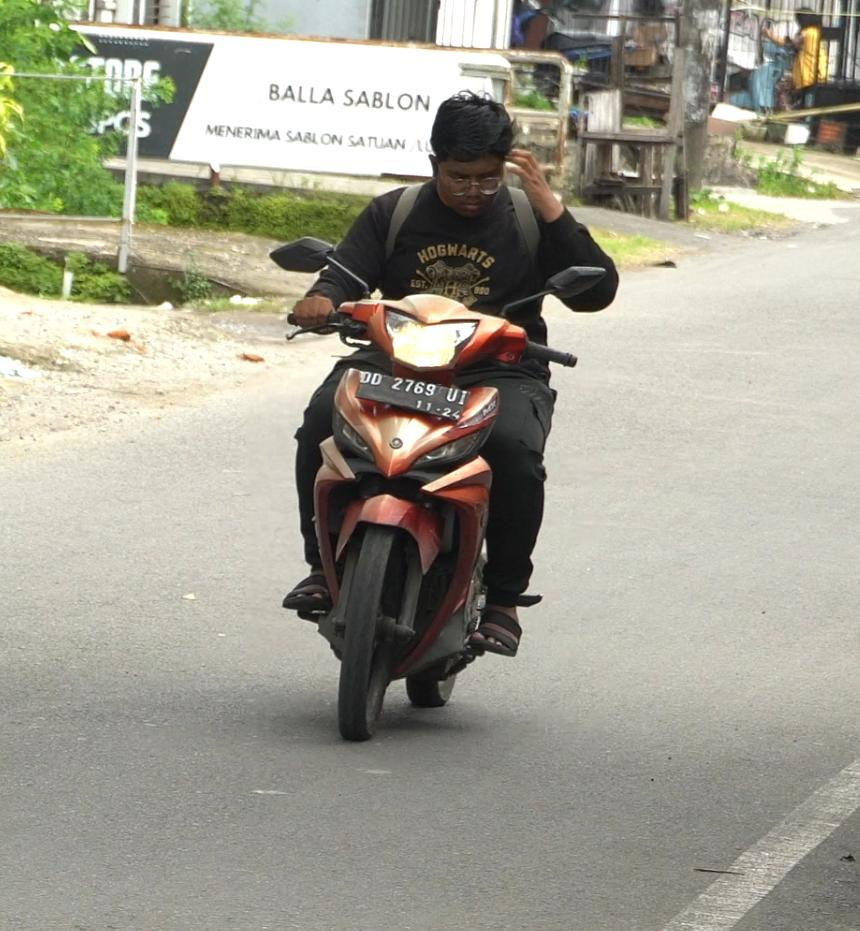number-plate: (355, 368, 474, 419)
